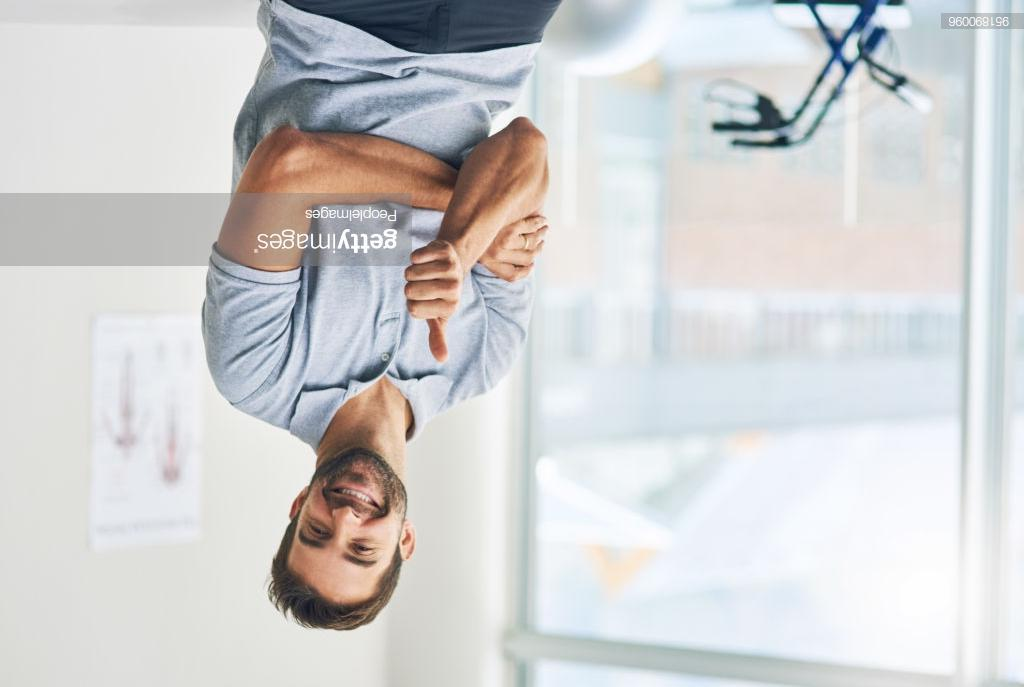thumbsdown: (405, 246, 462, 363)
